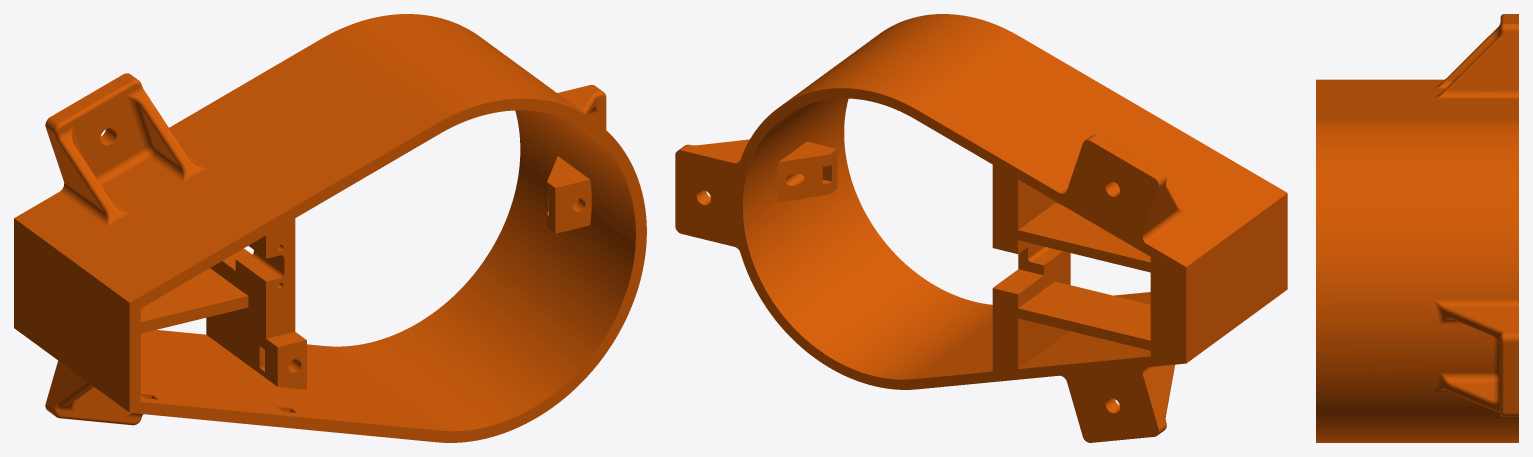
Rendered from EEZYbotARM_Mk2_012_base_visual_vis_1.dae.
The picture shows the model from 3 angles, left to right: view 1: azimuth 30°, elevation 25°; view 2: azimuth 150°, elevation 25°; view 3: azimuth 270°, elevation 25°; orthographic projection. The views are drawn at different scales.
Parts seen in each view (by area): view 1: node; view 2: node; view 3: node.
Boxes of the visible parts, x1,y1,x2,y2 form: node: [14, 14, 646, 442]; node: [675, 14, 1287, 442]; node: [1316, 14, 1518, 442].
Size of the model in its own units: 0.1602 by 0.0906 by 0.055.
